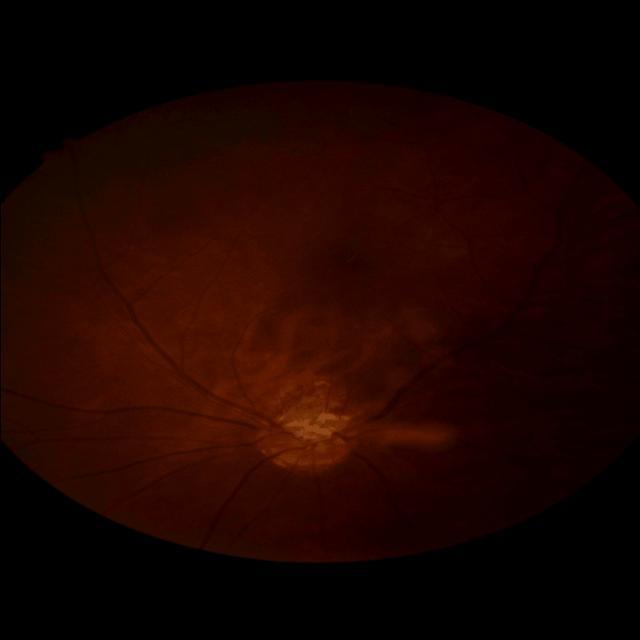cup: (279, 420, 333, 442)
disk: (256, 410, 356, 472)
